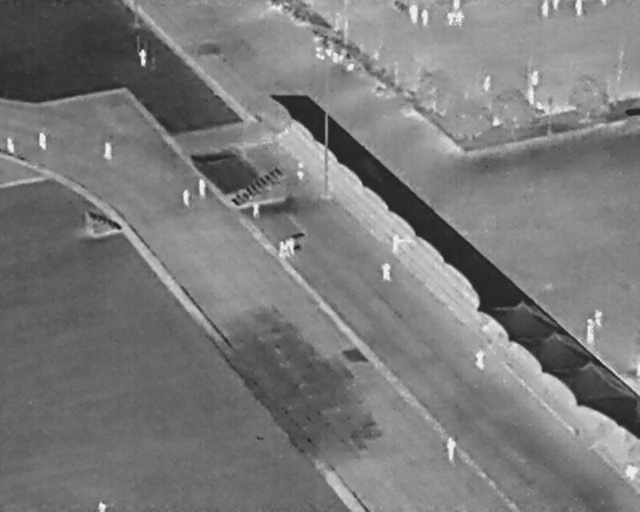DontCare: (310, 29, 369, 75), (446, 0, 467, 27), (278, 235, 296, 259)
Person: (447, 435, 457, 462), (476, 349, 487, 370), (587, 317, 595, 345), (381, 262, 392, 282), (409, 3, 419, 25), (529, 70, 540, 89), (6, 136, 15, 155), (297, 161, 306, 180), (539, 0, 549, 17), (104, 141, 113, 159), (139, 47, 147, 67), (183, 188, 191, 208), (198, 177, 206, 197), (595, 307, 603, 327), (39, 131, 47, 150), (96, 500, 108, 512), (421, 8, 429, 26), (253, 199, 260, 219), (484, 73, 491, 92), (576, 0, 584, 15), (553, 0, 559, 11), (601, 0, 607, 5)
